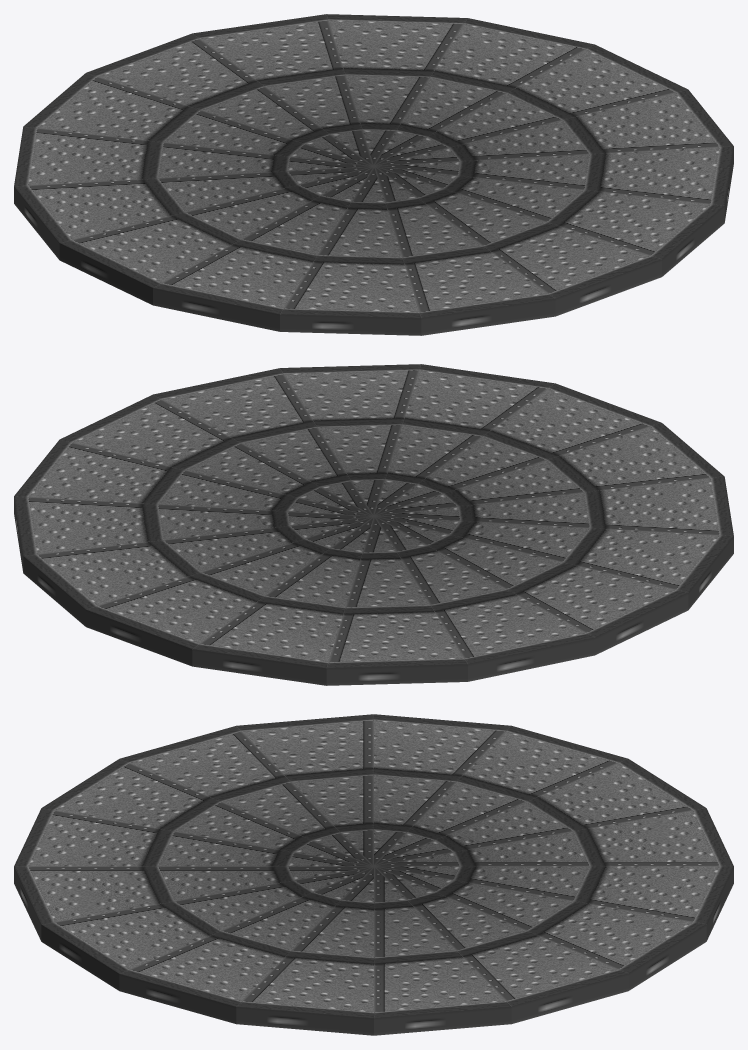
The model's file is koopa_course-rotary_room.glb.
The picture shows the model from 3 angles, top to bottom: view 1: azimuth 30°, elevation 25°; view 2: azimuth 150°, elevation 25°; view 3: azimuth 270°, elevation 25°; orthographic projection.
Parts seen in each view (by area): view 1: rotary_room; view 2: rotary_room; view 3: rotary_room.
Part boxes in pixels (x1,y1,x2,y2): rotary_room: (14,14,733,335); rotary_room: (14,364,733,685); rotary_room: (14,714,733,1035).
Bounding box in the file's own units: 59.01 × 1.56 × 59.01.
1 material, 1 textured.
